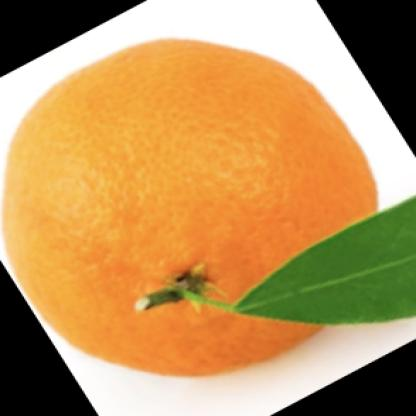fresh: (4, 40, 381, 380)
